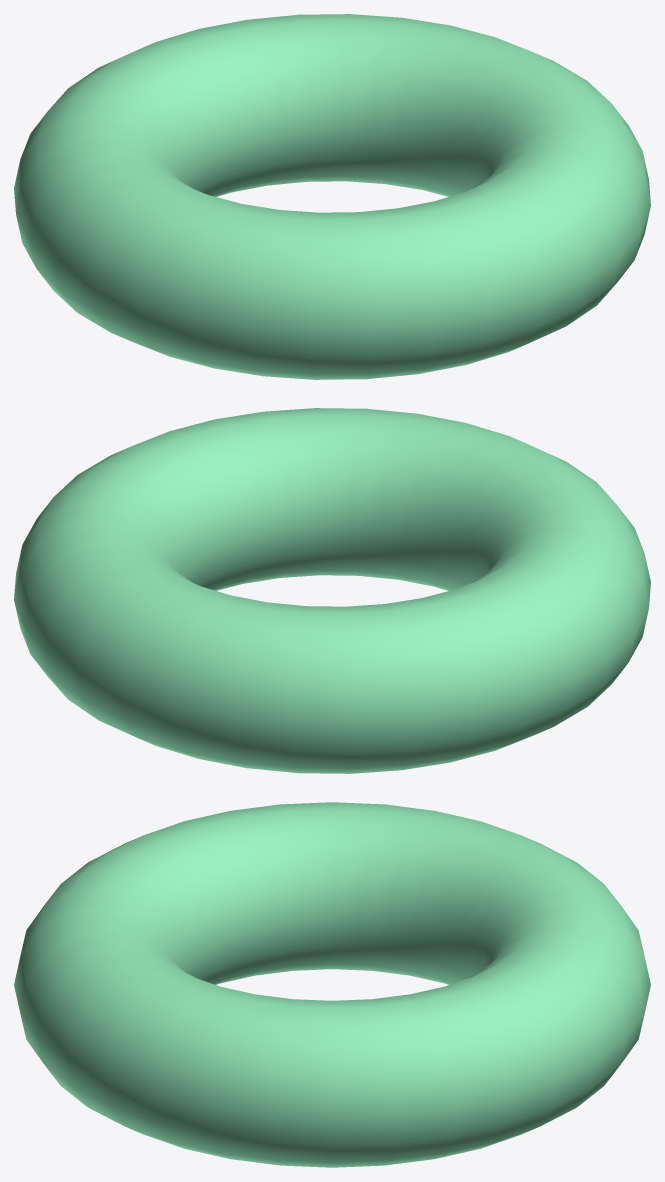
3 renders of one model, top to bottom at view 1: azimuth 30°, elevation 25°; view 2: azimuth 150°, elevation 25°; view 3: azimuth 270°, elevation 25°, orthographic.
Visible parts, largest first — view 1: torus; view 2: torus; view 3: torus.
Boxes of the visible parts, x1=… form: torus: x1=14, y1=14, x2=650, y2=379; torus: x1=14, y1=408, x2=650, y2=773; torus: x1=14, y1=802, x2=650, y2=1167.
Bounding box in the file's own units: 1.22 × 0.32 × 1.22.
